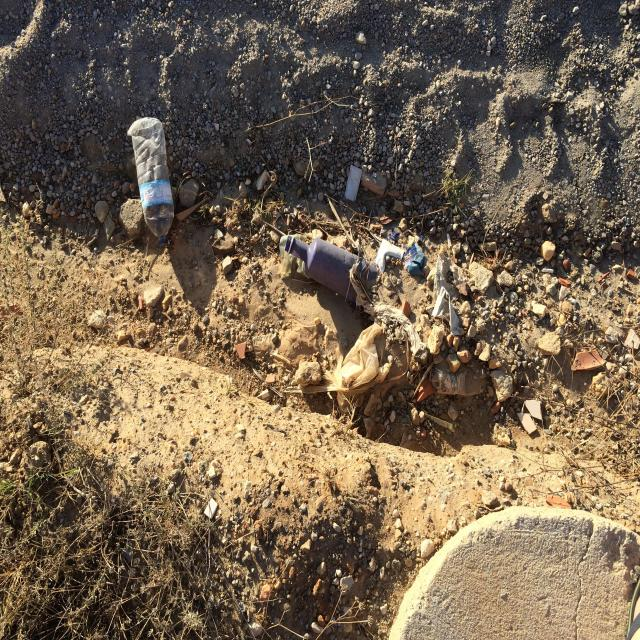litter: (125, 111, 177, 253), (284, 233, 378, 311)
